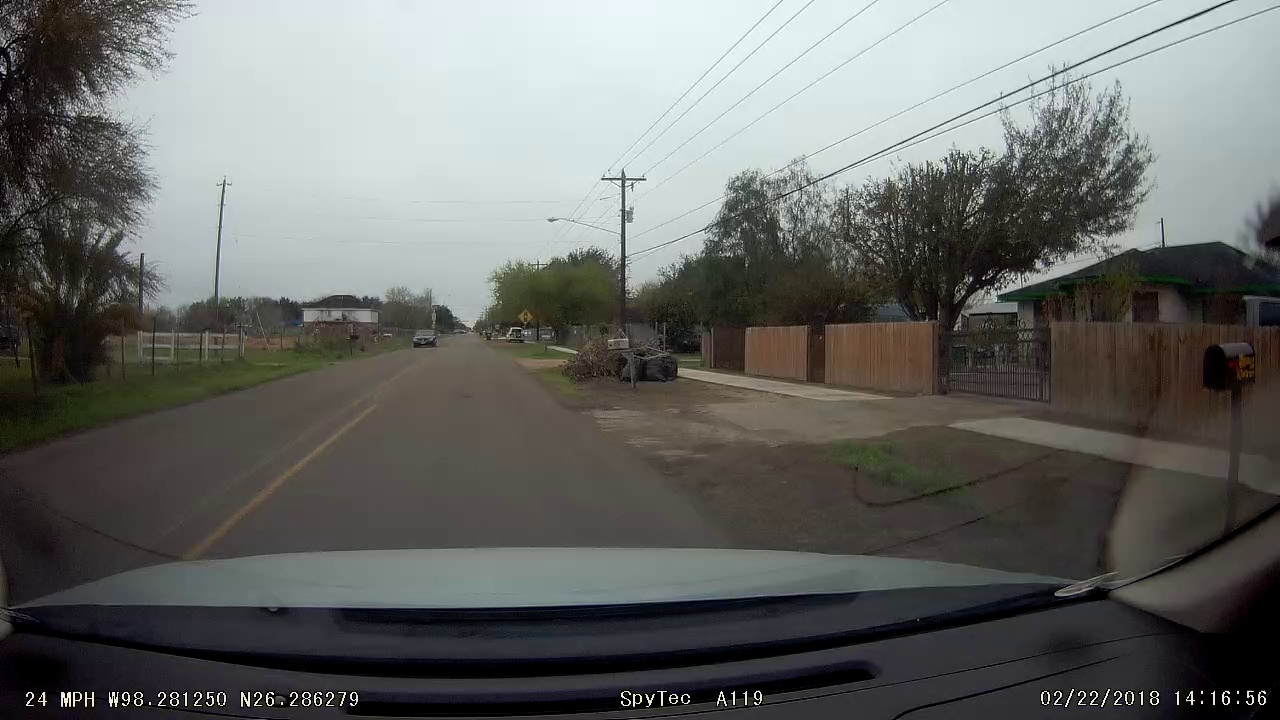blurredLine: (323, 384, 379, 436)
